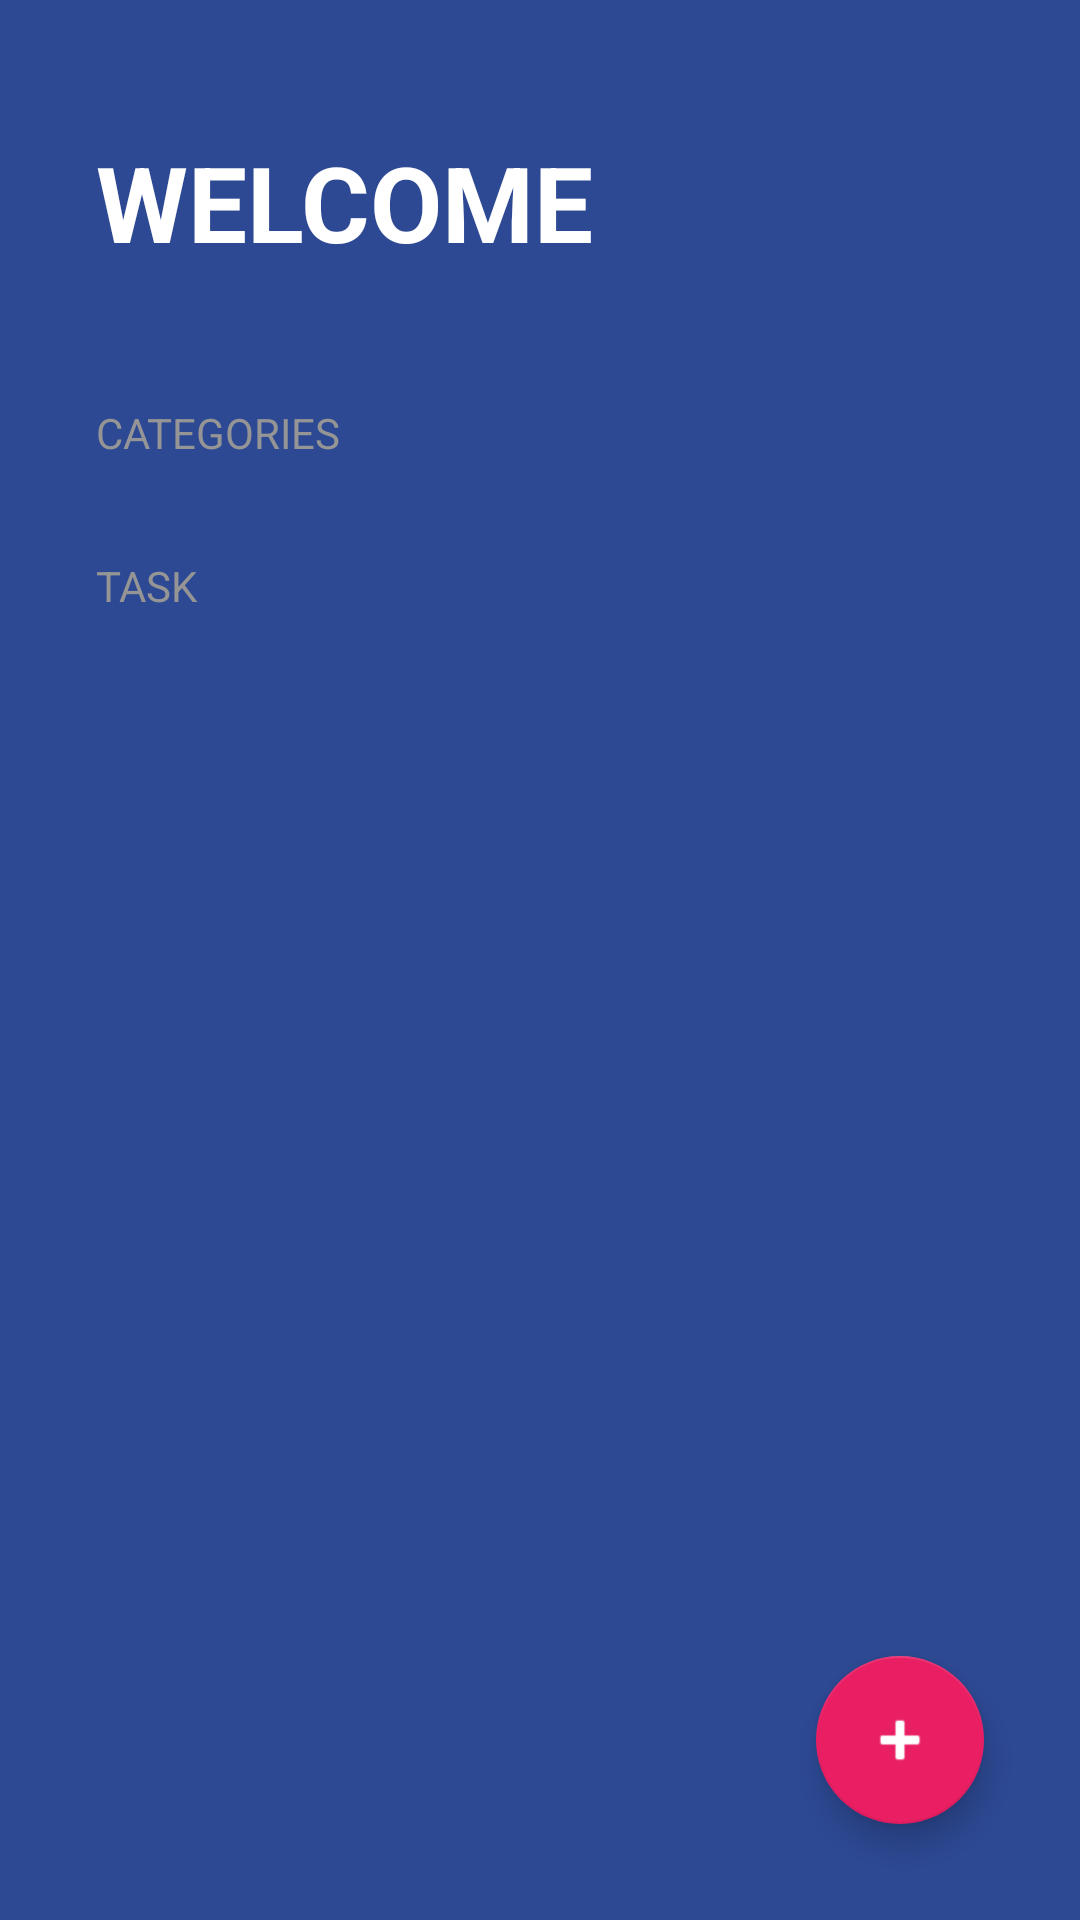

Icon bounding boxes for this 1080w x 1920h phone screenshot, format [x1,y1,x2,y2]:
Add task: [816,1656,984,1824]
